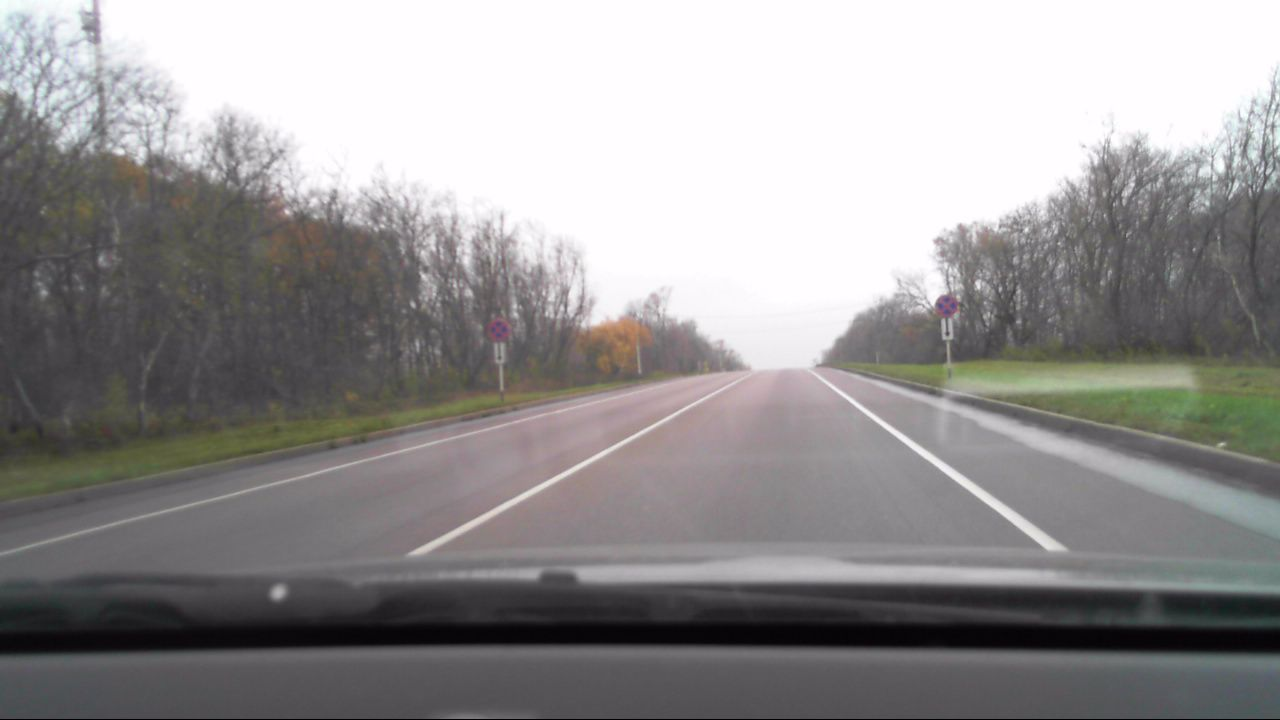No Parking: (934, 294, 957, 316)
